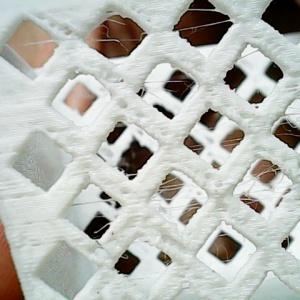3dpstringing: (237, 161, 290, 212), (149, 177, 205, 224), (72, 198, 122, 234), (91, 21, 150, 50), (207, 233, 253, 263), (142, 80, 192, 103), (192, 135, 247, 155), (276, 106, 300, 145), (175, 19, 236, 33), (126, 272, 161, 292), (24, 38, 59, 53), (183, 5, 220, 16), (238, 45, 262, 60), (160, 250, 177, 270), (115, 251, 138, 265), (282, 233, 293, 251), (123, 171, 140, 179)
3dpunderextrusion: (81, 60, 136, 95), (141, 229, 201, 256), (204, 95, 257, 125), (205, 171, 233, 218), (116, 100, 157, 129)
